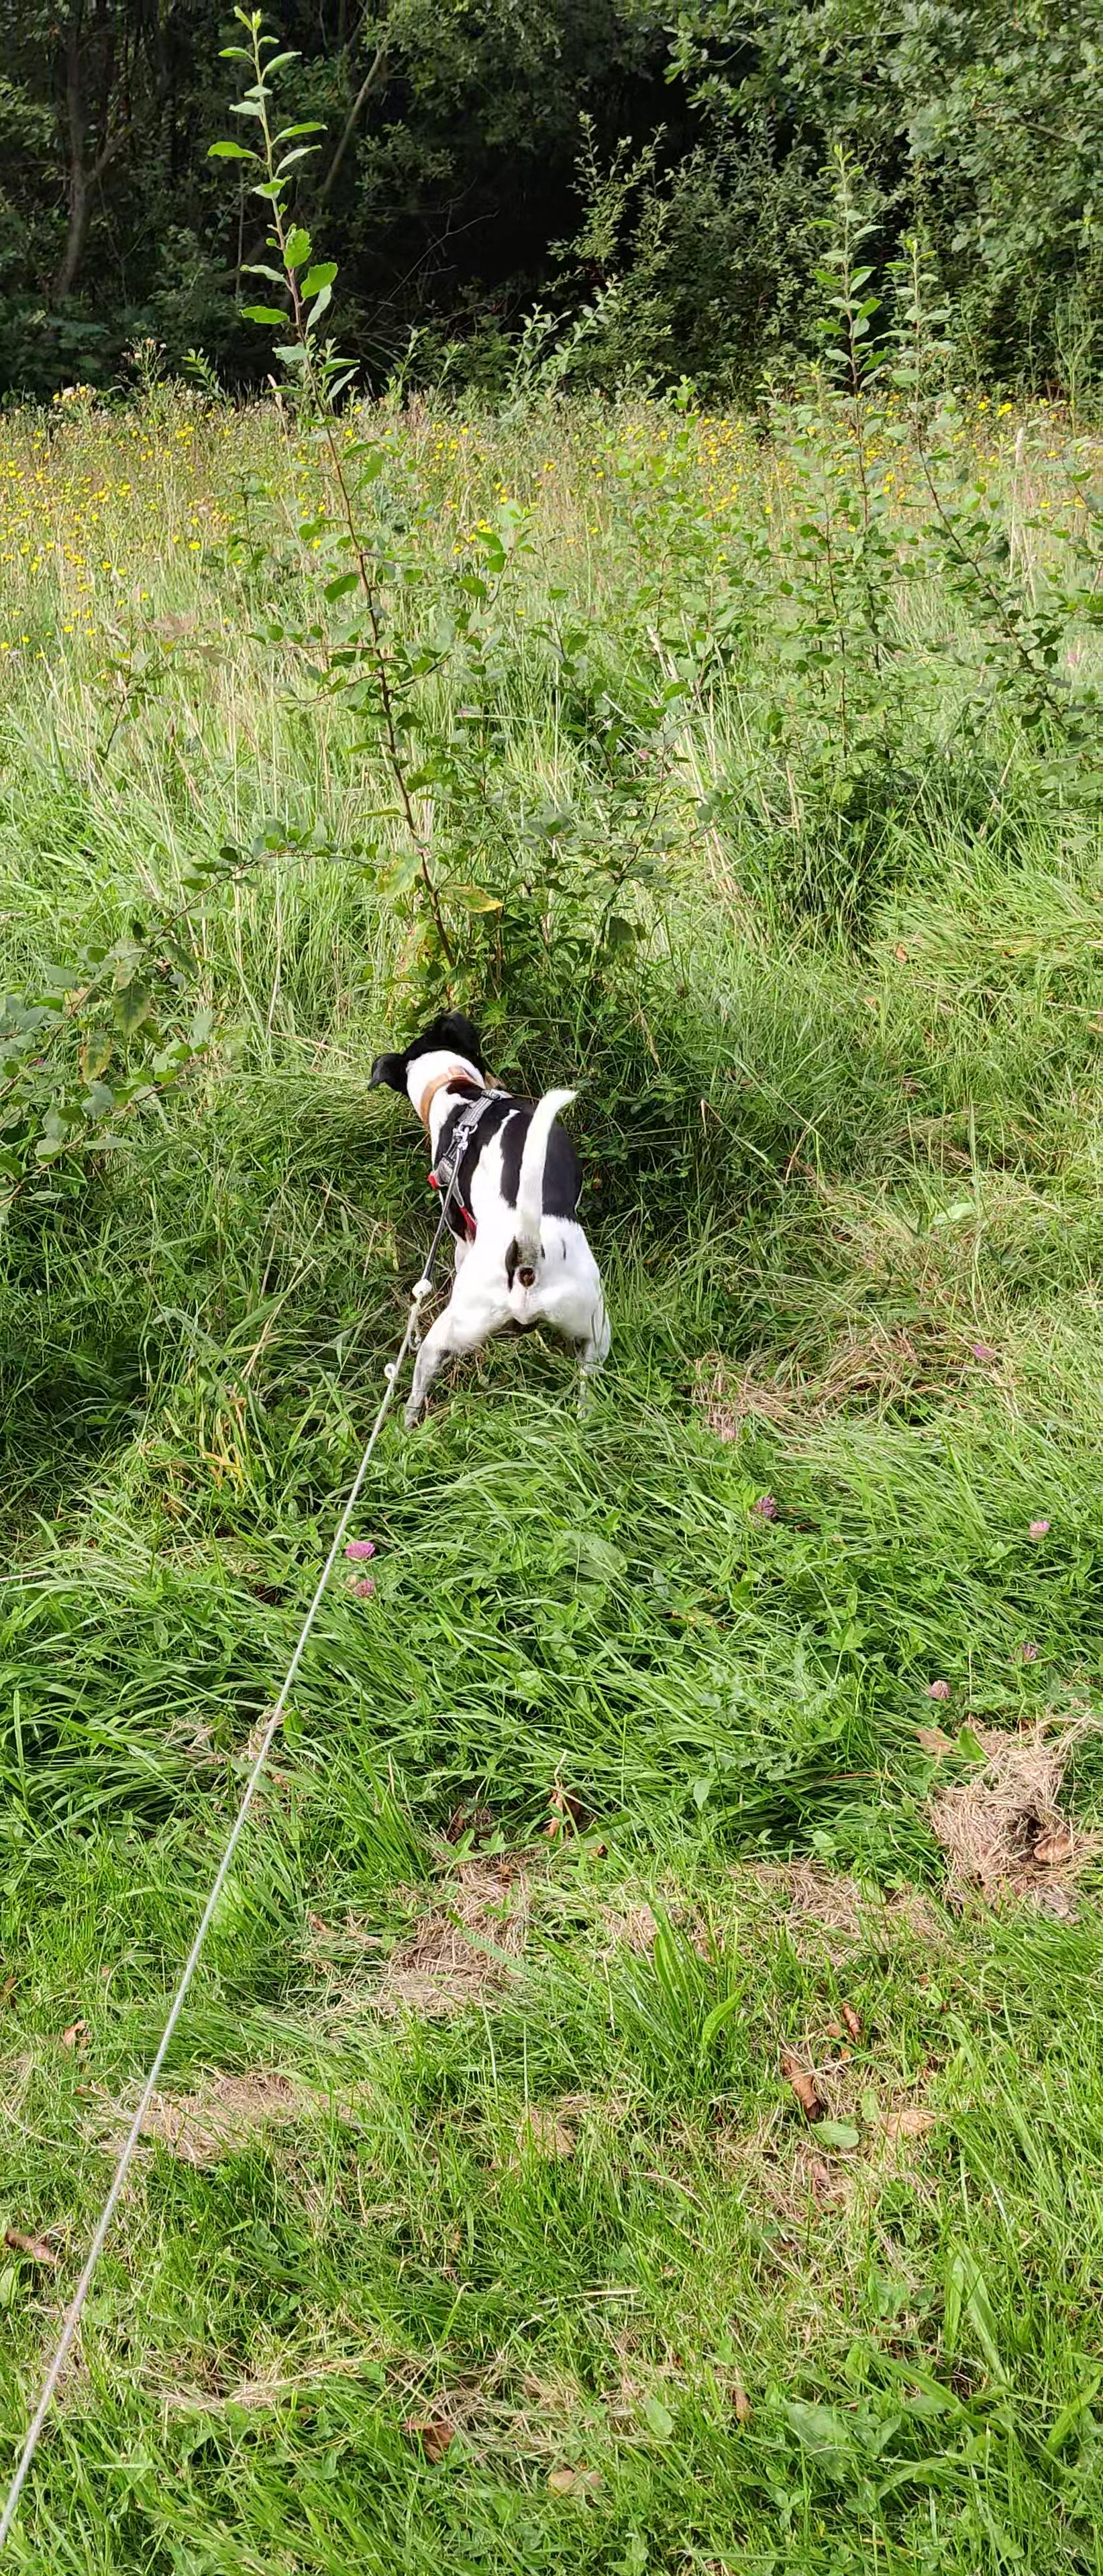Dog: (339, 992, 641, 1477)
